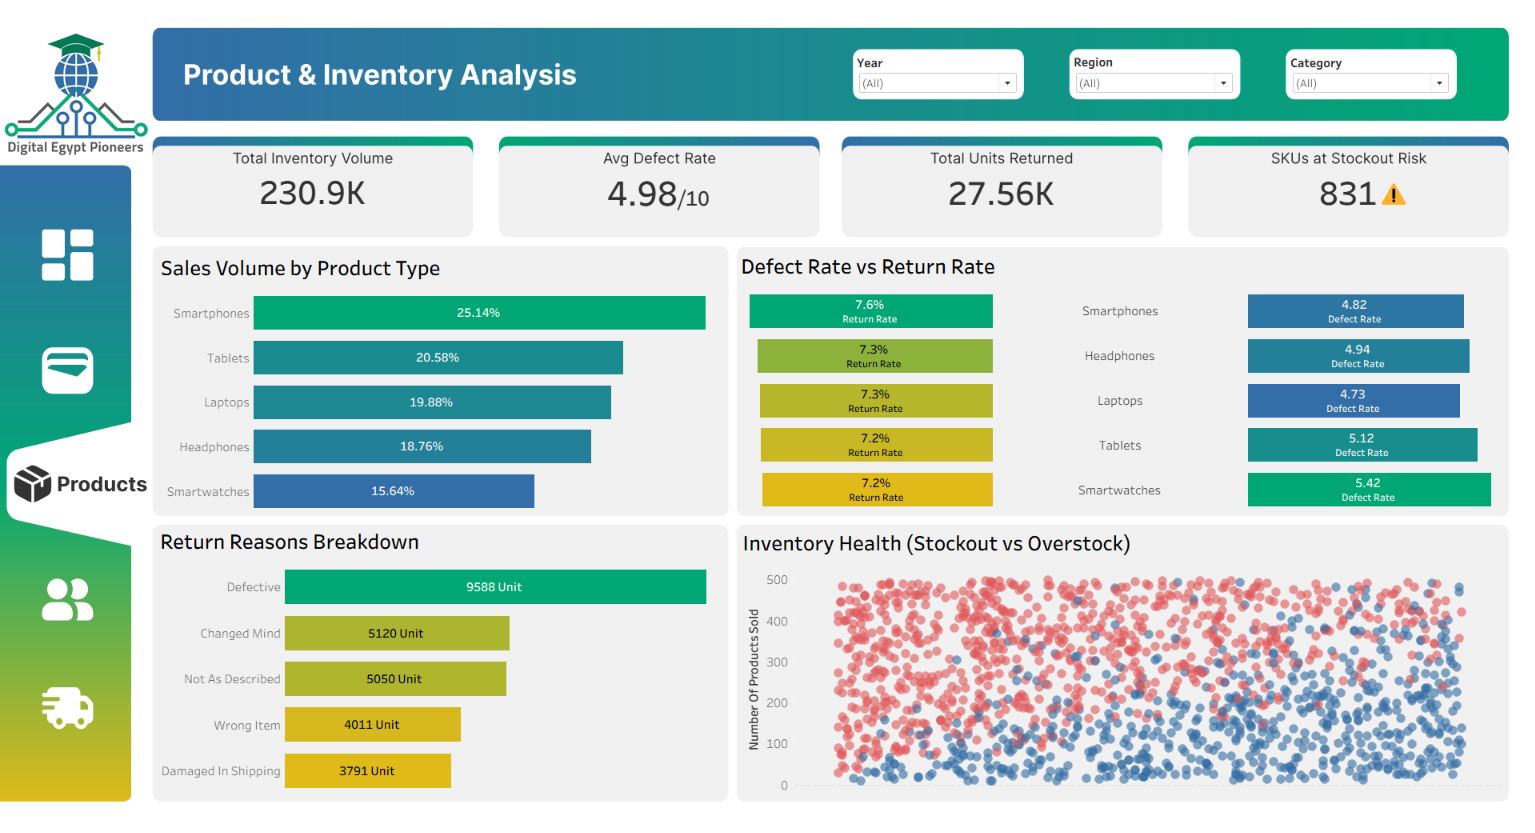

The page's visual inventory and layout, read from the dashboard file:
{"tool":"tableau","page":{"name":"Product Analysis Dashboard","canvas":[1890,1042],"ordinal":3},"visuals":[{"type":"filter","title":"Defect Rate vs Return Rate","param":"[federated.1a7ek0n1dui9pj16nsocf1yl686t].[none:region:nk]","box":[1323,63,210,59]},{"type":"filter","title":"Defect Rate vs Return Rate","param":"[federated.1a7ek0n1dui9pj16nsocf1yl686t].[yr:order_date:ok]","box":[1052,64,211,58]},{"type":"filter","title":"Defect Rate vs Return Rate","param":"[federated.1a7ek0n1dui9pj16nsocf1yl686t].[none:category:nk]","box":[1594,64,209,58]},{"type":"worksheet","title":"Sheet 19","mark":"Automatic","box":[175,182,401,115.3]},{"type":"worksheet","title":"avg defect","mark":"Automatic","box":[608,182.9,401,115.3]},{"type":"worksheet","title":"return units","mark":"Automatic","box":[1036,183.9,402,113.3]},{"type":"worksheet","title":"avg quality","mark":"Automatic","box":[1470,183.9,401,113.3]},{"type":"text","box":[1703,212.8,114,52.7]},{"type":"dashboard-object","box":[4,256,142,124]},{"type":"worksheet","title":"Defect Rate vs Return Rate","mark":"Automatic","rows":["product_type"],"cols":["Calculation_0370552282161153","Calculation_0370552298012674","defect_rates"],"box":[907,311.2,957,329.1]},{"type":"worksheet","title":"Sheet 12","mark":"Automatic","rows":["product_type"],"cols":["number_of_products_sold"],"box":[182,313.2,713,329.1]},{"type":"dashboard-object","box":[7,395,138,124]},{"type":"worksheet","title":"Sheet 13","mark":"Automatic","rows":["return_reason"],"cols":["units_returned"],"box":[181,655.2,713,337.1]},{"type":"worksheet","title":"Sheet 18","mark":"Automatic","rows":["number_of_products_sold"],"cols":["stock_levels"],"box":[909,657.2,954,337.1]},{"type":"dashboard-object","box":[3,688,141,125.3]},{"type":"dashboard-object","box":[4,820,141,126]}]}

Visuals, with their boxes in screenshot pixels (x1, y1, x2, y2), scaled from the page's 1890x1042 canvas onto the 1535x833 screenshot:
"Defect Rate vs Return Rate" filter: BBox(1074, 50, 1245, 98)
"Defect Rate vs Return Rate" filter: BBox(854, 51, 1026, 98)
"Defect Rate vs Return Rate" filter: BBox(1295, 51, 1464, 98)
"Sheet 19" worksheet: BBox(142, 145, 468, 238)
"avg defect" worksheet: BBox(494, 146, 819, 238)
"return units" worksheet: BBox(841, 147, 1168, 238)
"avg quality" worksheet: BBox(1194, 147, 1520, 238)
text: BBox(1383, 170, 1476, 212)
dashboard-object: BBox(3, 205, 119, 304)
"Defect Rate vs Return Rate" worksheet: BBox(737, 249, 1514, 512)
"Sheet 12" worksheet: BBox(148, 250, 727, 513)
dashboard-object: BBox(6, 316, 118, 415)
"Sheet 13" worksheet: BBox(147, 524, 726, 793)
"Sheet 18" worksheet: BBox(738, 525, 1513, 795)
dashboard-object: BBox(2, 550, 117, 650)
dashboard-object: BBox(3, 656, 118, 756)
